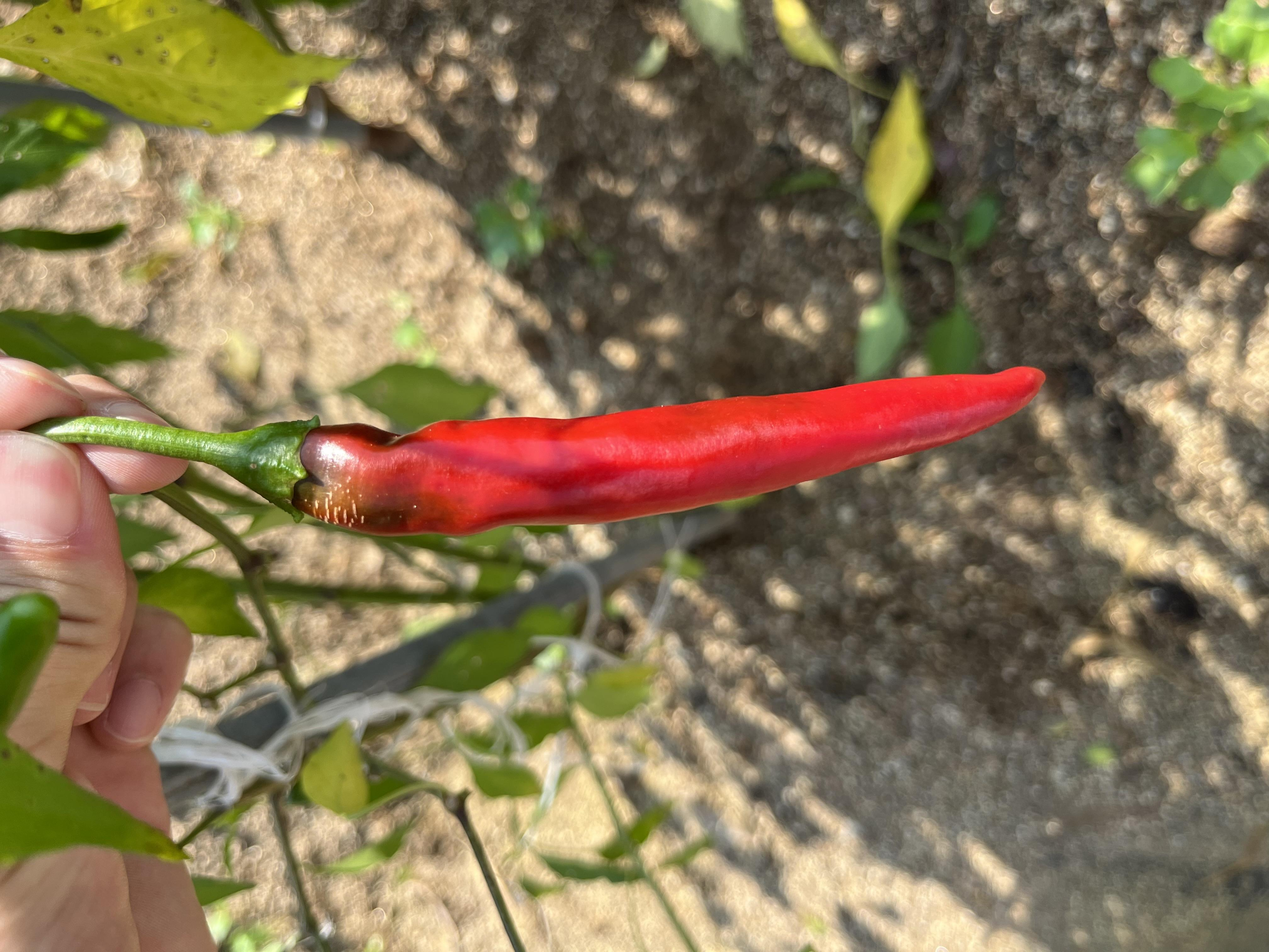Buah Cabai Sehat: (537, 170, 776, 783)
